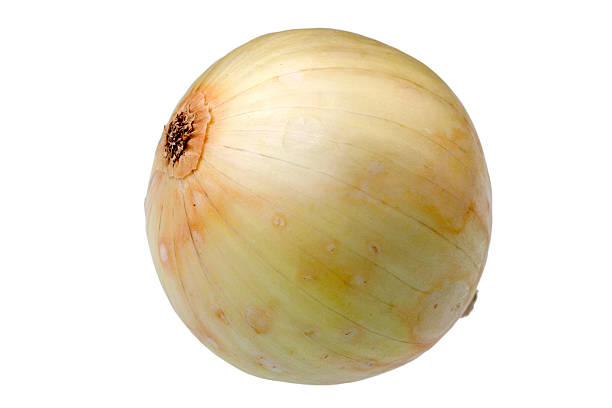onion: (121, 18, 502, 387)
